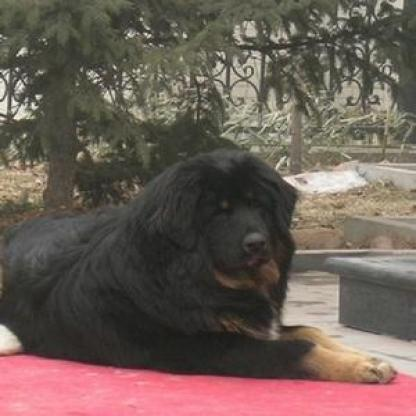Tibetan_mastiff: (3, 143, 395, 382)
